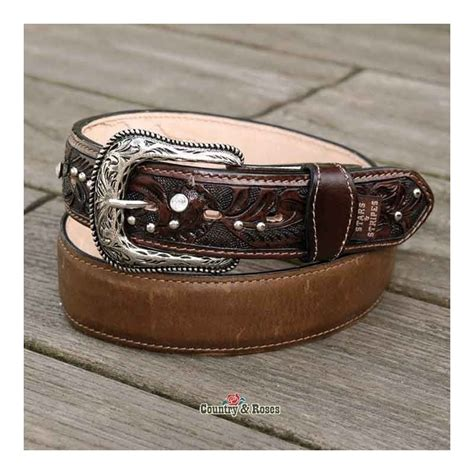cuero: (58, 106, 436, 353)
